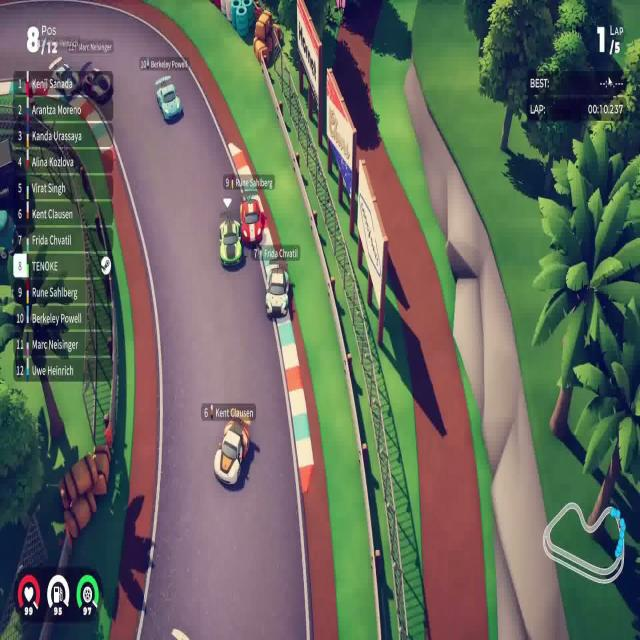car: (212, 415, 250, 486), (264, 262, 290, 319), (239, 194, 266, 247), (154, 75, 182, 122), (218, 216, 243, 268), (80, 64, 112, 102), (49, 60, 80, 97)
